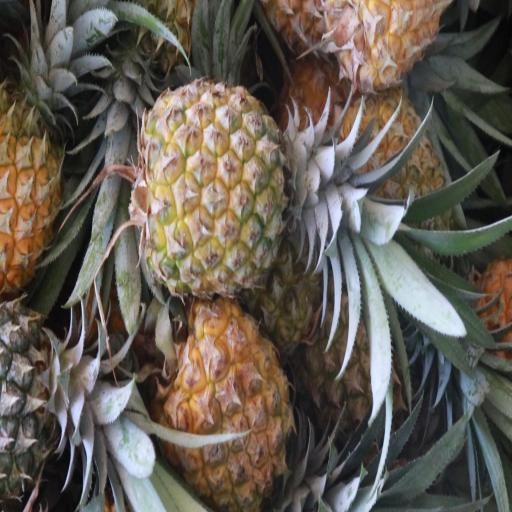------------------------------: (338, 100, 449, 264)
Pineapple - v8 v1: (144, 83, 290, 295), (164, 302, 292, 509), (0, 95, 67, 293)
